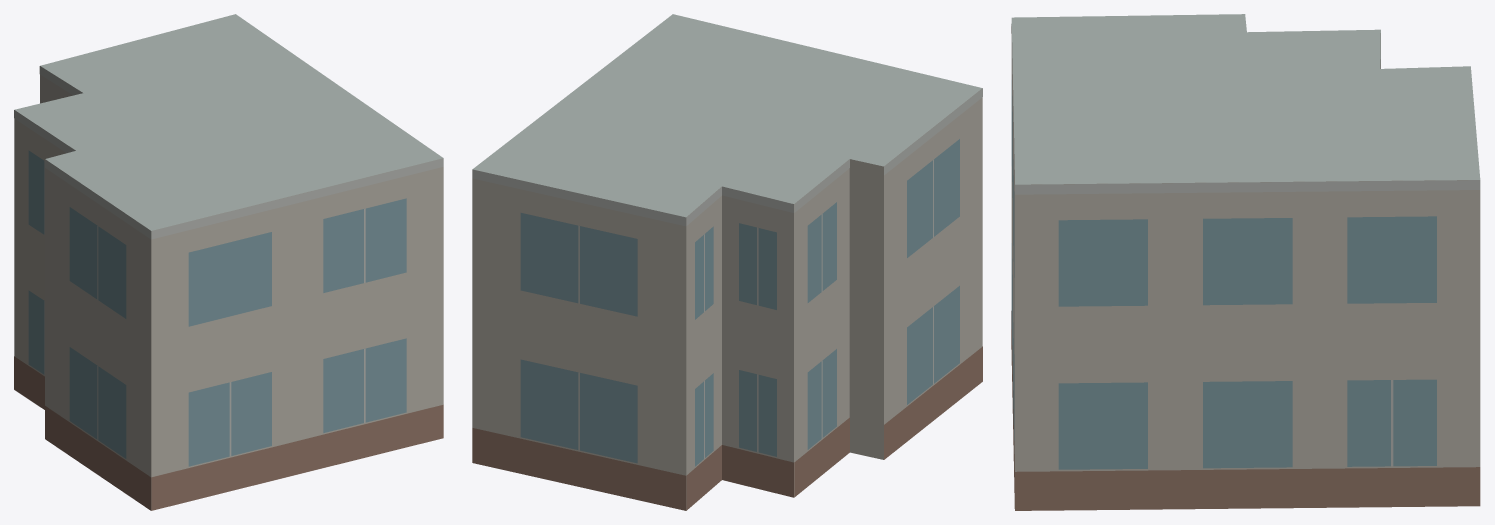
Rendered from survey-upis-32638480.glb.
The picture shows the model from 3 angles, left to right: view 1: azimuth 30°, elevation 25°; view 2: azimuth 150°, elevation 25°; view 3: azimuth 270°, elevation 25°; orthographic projection. The views are drawn at different scales.
Parts seen in each view (by area): view 1: survey-upis-32638480.tmp; view 2: survey-upis-32638480.tmp; view 3: survey-upis-32638480.tmp.
Boxes of the visible parts, x1,y1,x2,y2 form: survey-upis-32638480.tmp: [14, 14, 443, 510]; survey-upis-32638480.tmp: [472, 14, 982, 510]; survey-upis-32638480.tmp: [1011, 14, 1480, 510].
Size of the model in its own units: 8.87 by 7.9 by 10.3.
